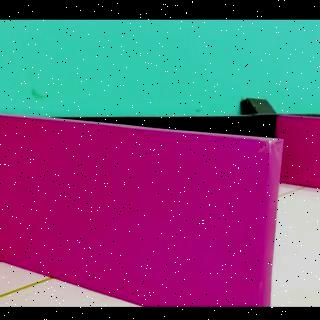xparking: (6, 144, 266, 302), (284, 120, 315, 186)
